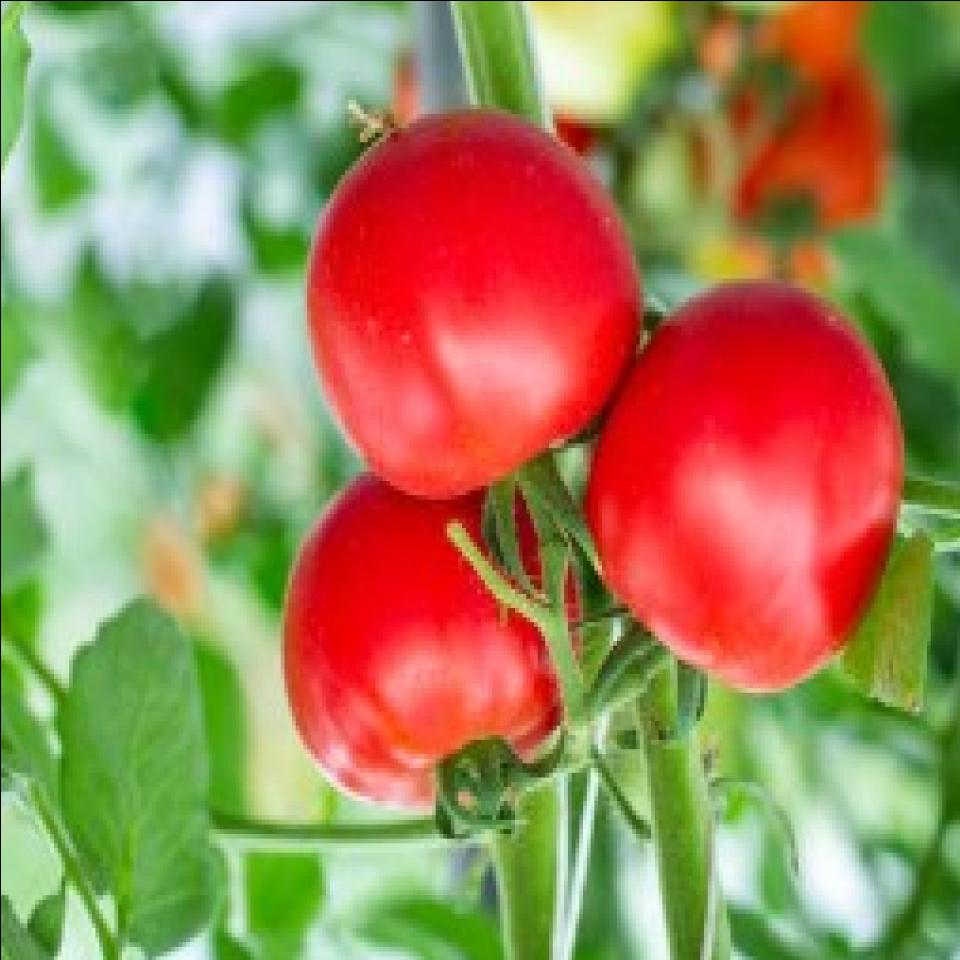Healthy: (302, 98, 640, 498), (612, 255, 891, 696), (281, 484, 581, 834)
